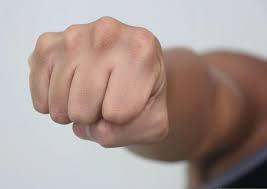Oncoming-Punch: (26, 15, 168, 151)
